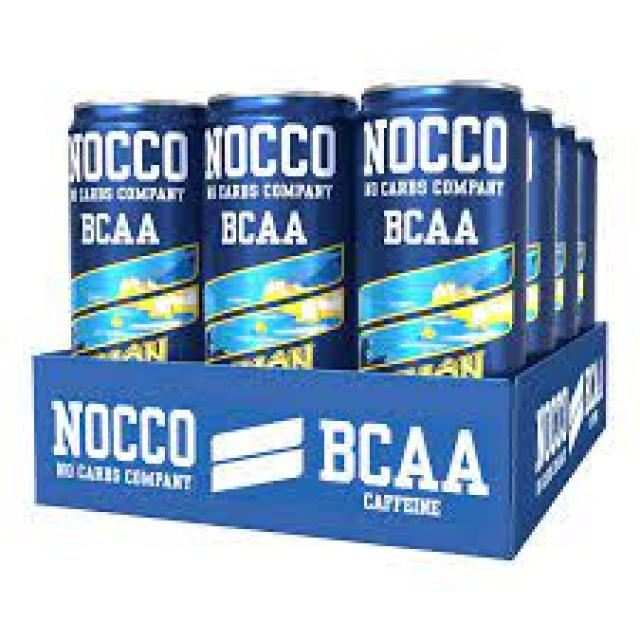Cans: (342, 71, 526, 381), (199, 82, 364, 370), (60, 94, 213, 364)
